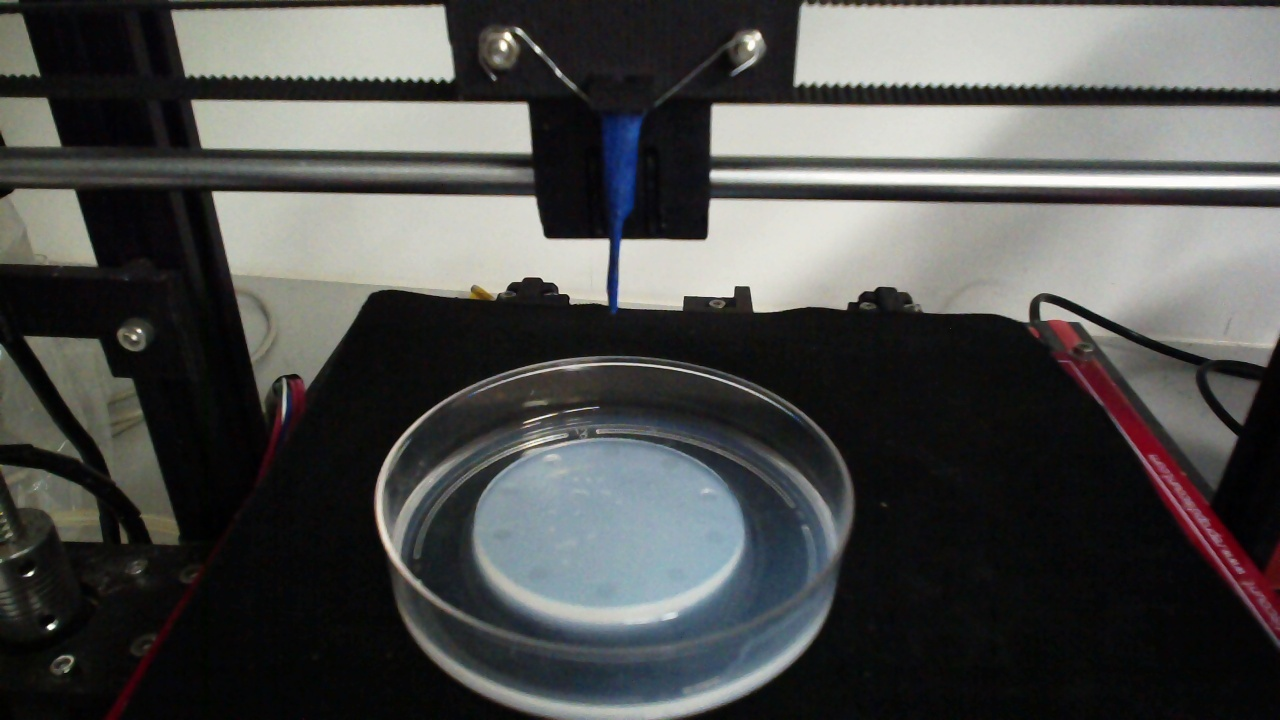groove: (704, 527, 729, 546), (497, 483, 523, 501), (666, 565, 692, 583), (594, 580, 617, 599), (490, 526, 512, 543), (541, 452, 564, 468), (697, 488, 721, 503), (658, 457, 682, 472), (600, 444, 621, 460), (527, 566, 549, 581)
needle: (604, 114, 639, 315)
